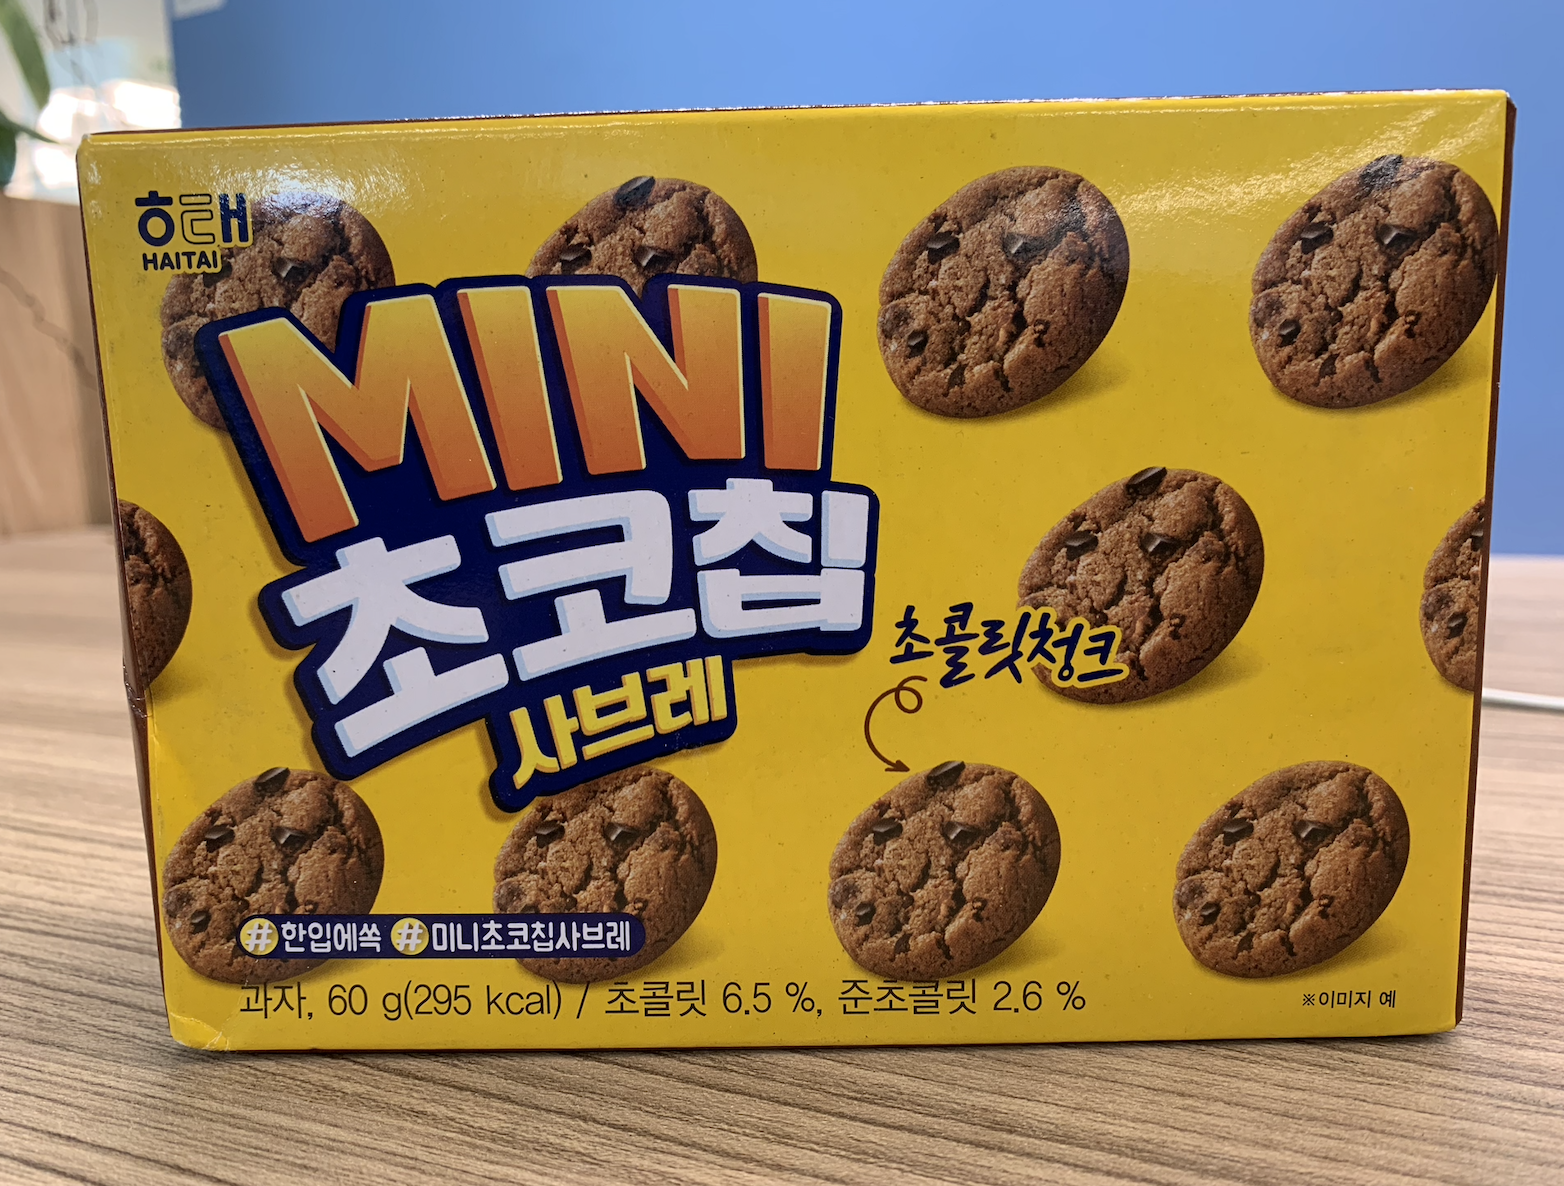cookies_50g: (134, 173, 1439, 1022)
